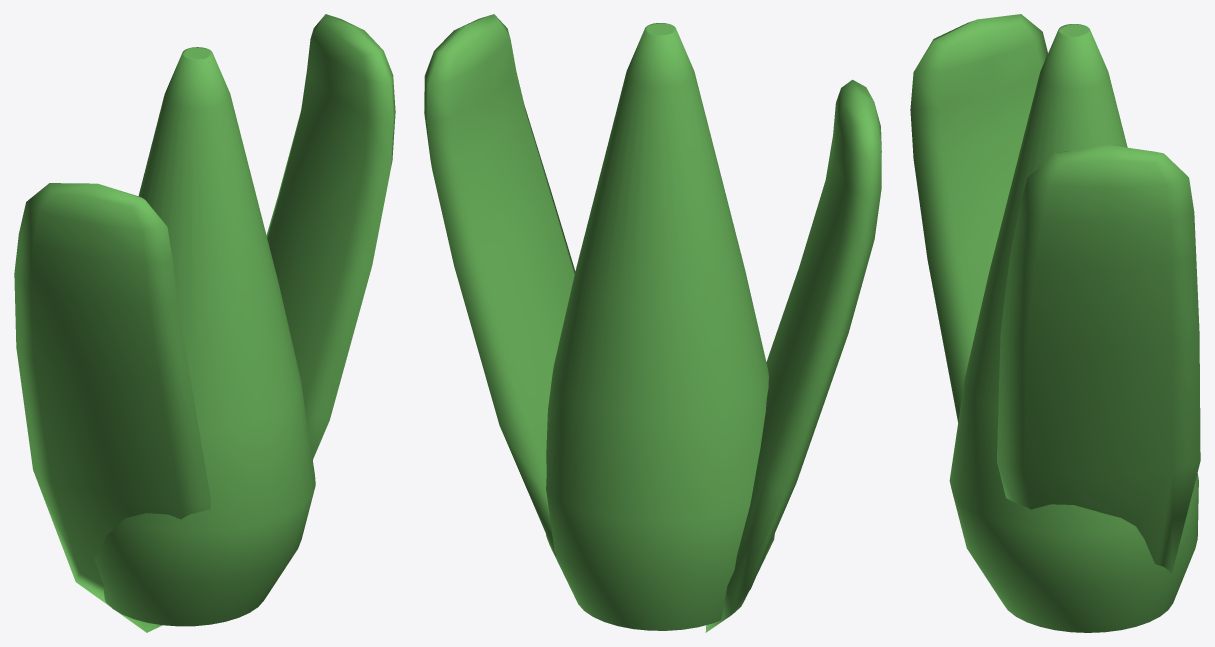
Rendered from corn_sappling.glb.
3 renders of one model, left to right at view 1: azimuth 30°, elevation 25°; view 2: azimuth 150°, elevation 25°; view 3: azimuth 270°, elevation 25°, orthographic. The views are drawn at different scales.
Visible parts, largest first — view 1: Plane, Sapling; view 2: Sapling, Plane; view 3: Plane, Sapling.
Boxes of the visible parts, x1,y1,x2,y2 form: Plane: [14, 14, 395, 632]; Sapling: [94, 47, 315, 626]; Sapling: [546, 23, 774, 630]; Plane: [424, 14, 881, 632]; Plane: [910, 14, 1200, 573]; Sapling: [949, 24, 1198, 632].
Bounding box in the file's own units: 0.1376 × 0.198 × 0.0868.
